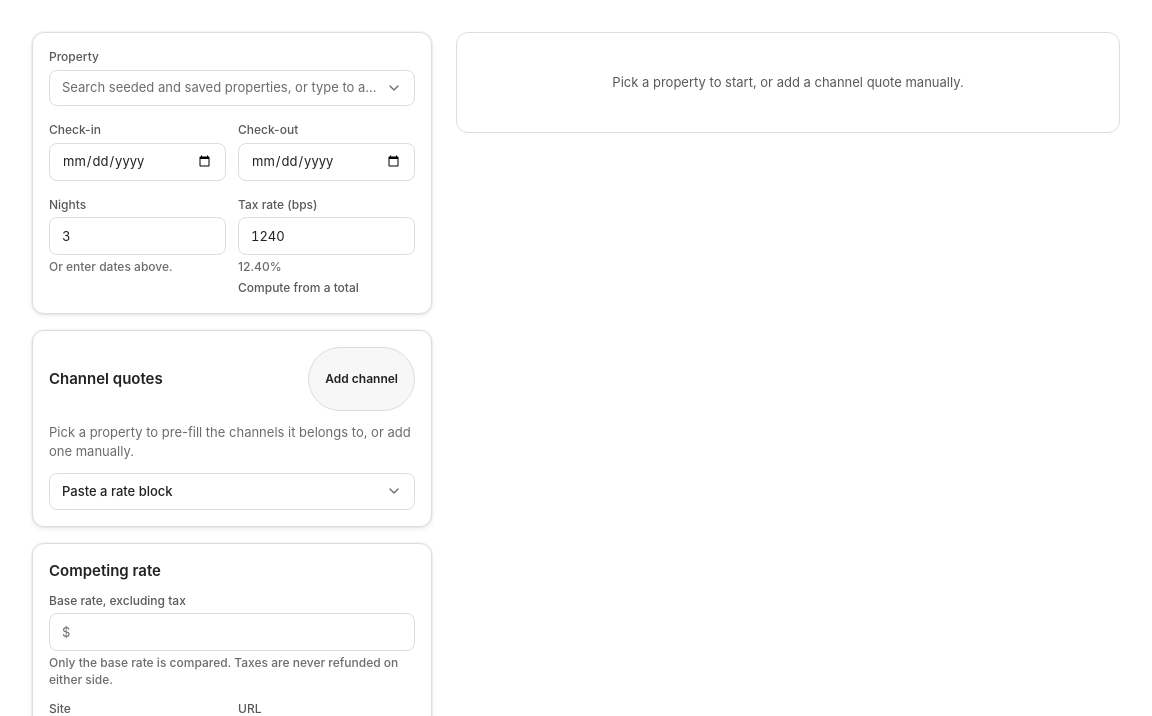
Test: CompareScreen — Defect D: the tax-rate calculator carries its total to a quote row › is disabled until a total has been entered, and names what to do
Click the button "Compute from a total" at (298, 289), box [238,280,359,297]
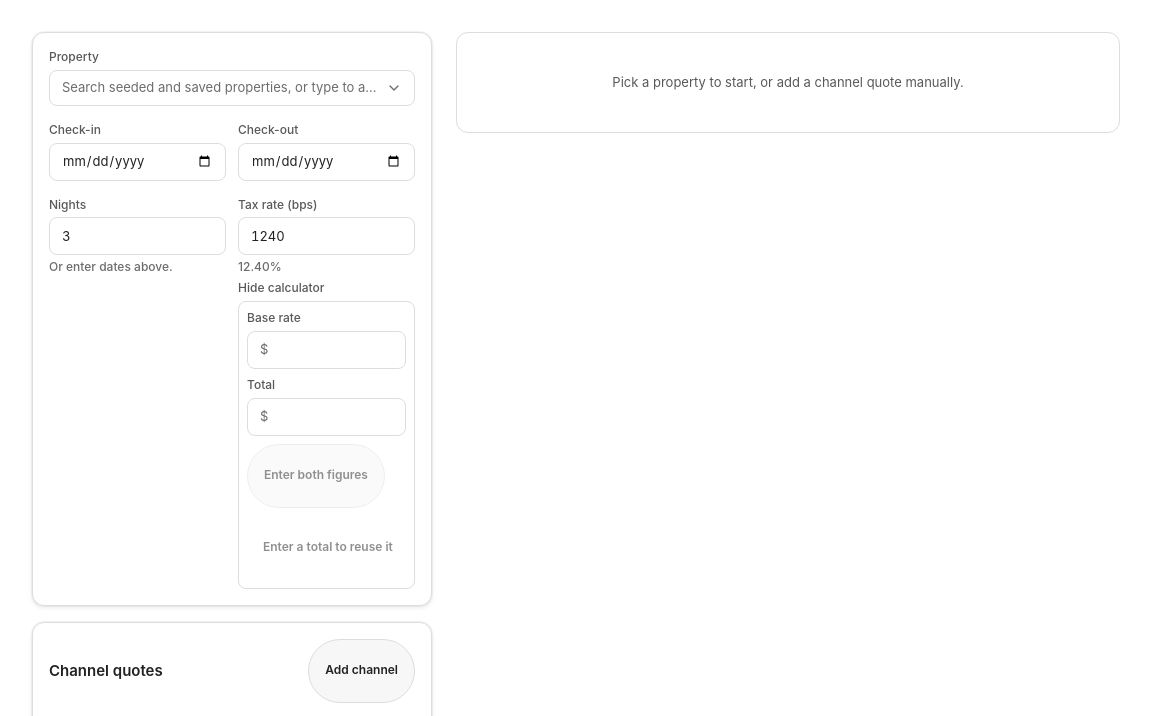
Expected: the button "Enter a total to reuse it" is disabled, [247,516,409,580]
